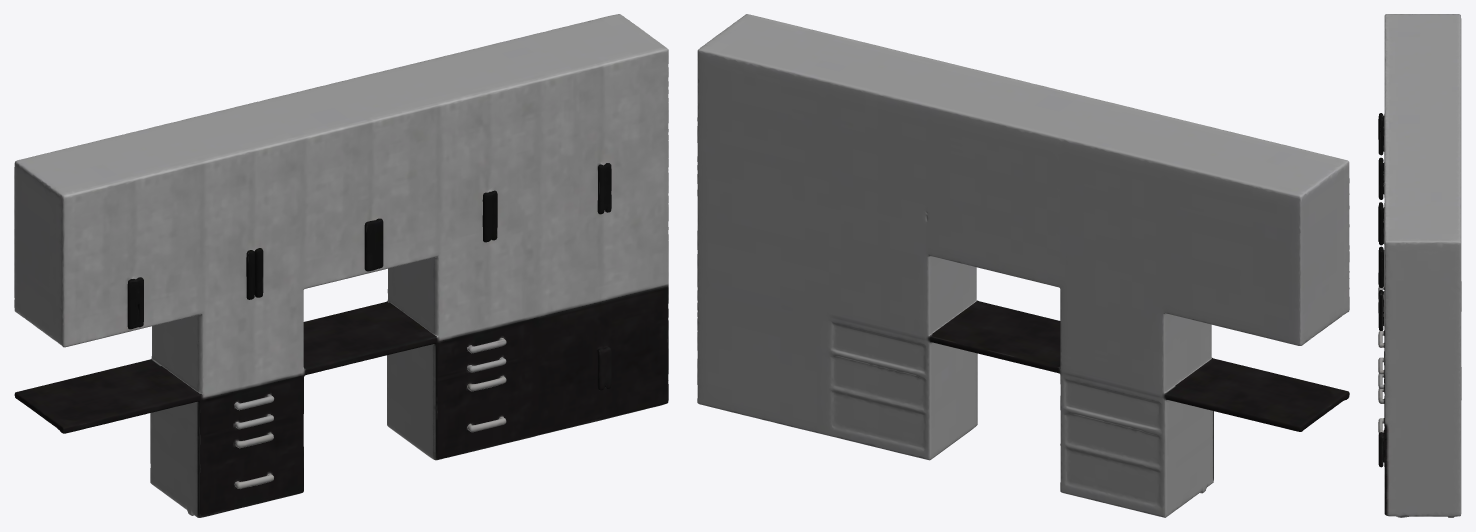
Rendered from Two-Tone Concrete-Effect Modular Home Office Unit with Integrated Desk [1ViQiN].glb.
3 views of the same model, side by side, from view 1: azimuth 30°, elevation 25°; view 2: azimuth 150°, elevation 25°; view 3: azimuth 270°, elevation 25° (orthographic). The views are drawn at different scales.
Visible parts, largest first — view 1: world; view 2: world; view 3: world.
Boxes of the visible parts, box(x1,y1,x2,y2) form: world: box(14, 14, 668, 517); world: box(697, 14, 1349, 517); world: box(1378, 14, 1461, 517).
Bounding box in the file's own units: 1 × 0.5688 × 0.1552.
1 material, 1 textured.
